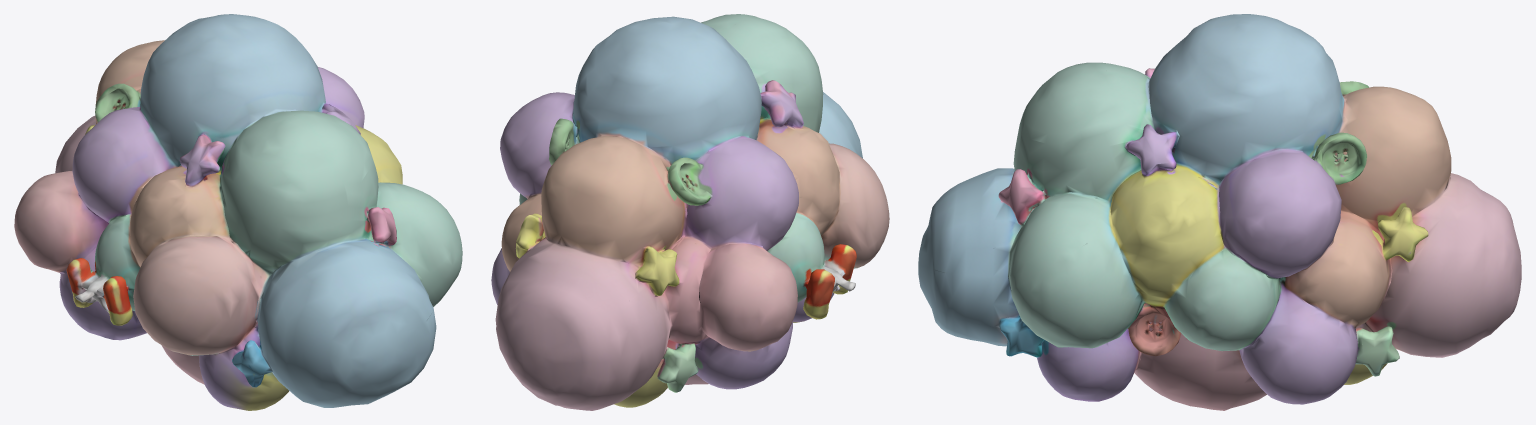
3 renders of one model, left to right at view 1: azimuth 30°, elevation 25°; view 2: azimuth 150°, elevation 25°; view 3: azimuth 270°, elevation 25°, orthographic. The views are drawn at different scales.
Parts seen in each view (by area): view 1: repaired; view 2: repaired; view 3: repaired.
Part boxes in pixels (left/top/right/bottom): repaired: left=14, top=14, right=462, bottom=410; repaired: left=491, top=14, right=889, bottom=410; repaired: left=918, top=14, right=1521, bottom=410.
Size of the model in its own units: 0.6534 by 0.6889 by 0.9996.
1 material, 1 textured.
